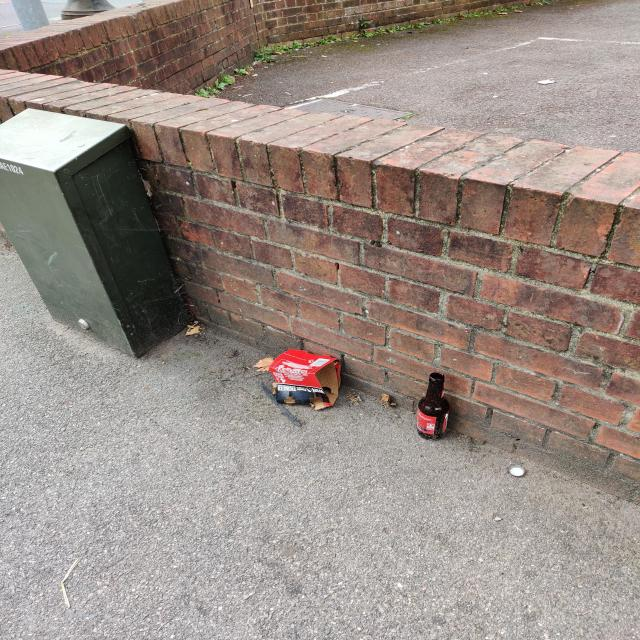litter: (268, 343, 348, 409), (412, 363, 460, 440), (503, 462, 531, 481)
